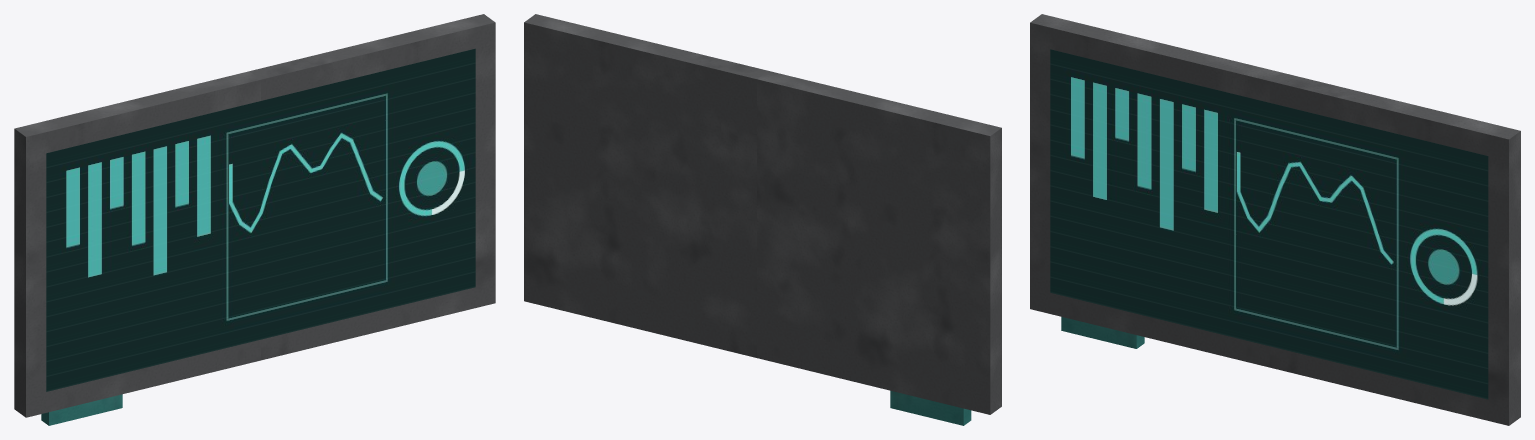
File: wall-screen.glb
The picture shows the model from 3 angles, left to right: view 1: azimuth 30°, elevation 25°; view 2: azimuth 150°, elevation 25°; view 3: azimuth 330°, elevation 25°; orthographic projection. The views are drawn at different scales.
Parts seen in each view (by area): view 1: WallScreen_screen, WallScreen_gunmetal, WallScreen_teal; view 2: WallScreen_gunmetal, WallScreen_teal; view 3: WallScreen_screen, WallScreen_gunmetal, WallScreen_teal.
Part boxes in pixels (<box>): WallScreen_screen: <box>46,48,475,391</box>; WallScreen_gunmetal: <box>14,14,495,417</box>; WallScreen_teal: <box>41,394,122,425</box>; WallScreen_gunmetal: <box>524,14,1001,414</box>; WallScreen_teal: <box>890,390,971,425</box>; WallScreen_screen: <box>1050,49,1488,399</box>; WallScreen_gunmetal: <box>1030,14,1520,425</box>; WallScreen_teal: <box>1061,317,1144,348</box>.
Bounding box in the file's own units: 1.4 × 0.85 × 0.061.
Materials: 3 (3 with a texture image).
